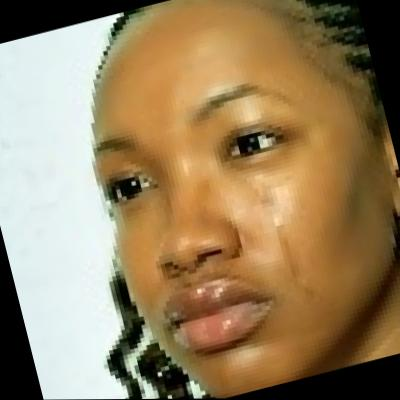sad: (67, 0, 400, 400)
